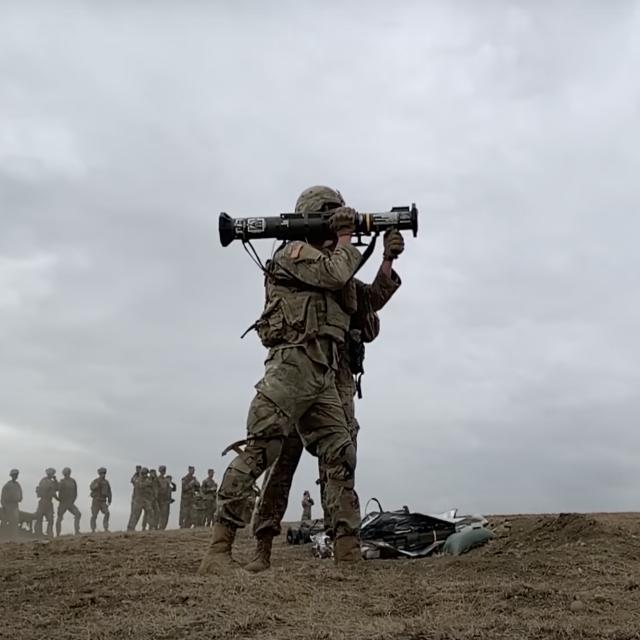bazooka: (215, 196, 426, 258)
